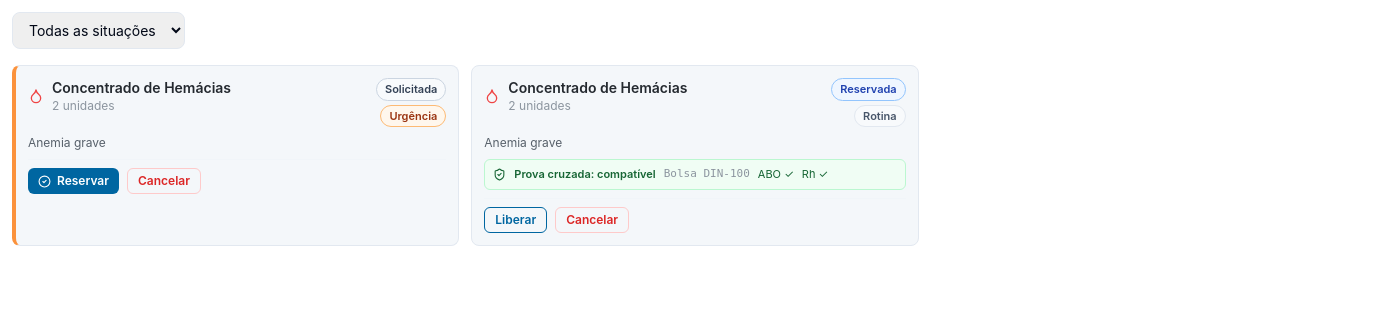
it: TransfusionRequestQueue › surfaces a 409 on liberar as an action error
Check: the element named "Requisição r2" is shown, box [471,65,919,246]
What coordinates should you click on to do the following:
click the button "Liberar"
I would click on:
 (516, 220)
Its box is [484,206,547,232].
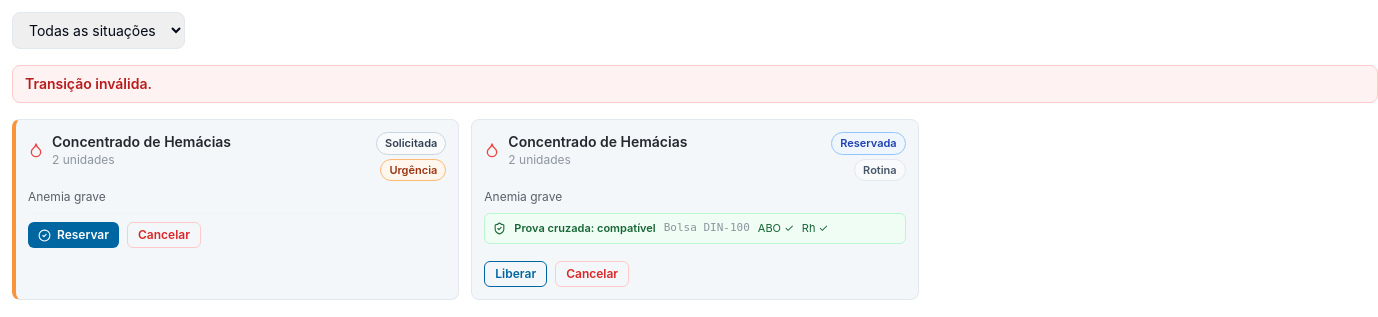
Check: the text "Transição inválida." is shown, box [12,65,1377,103]
